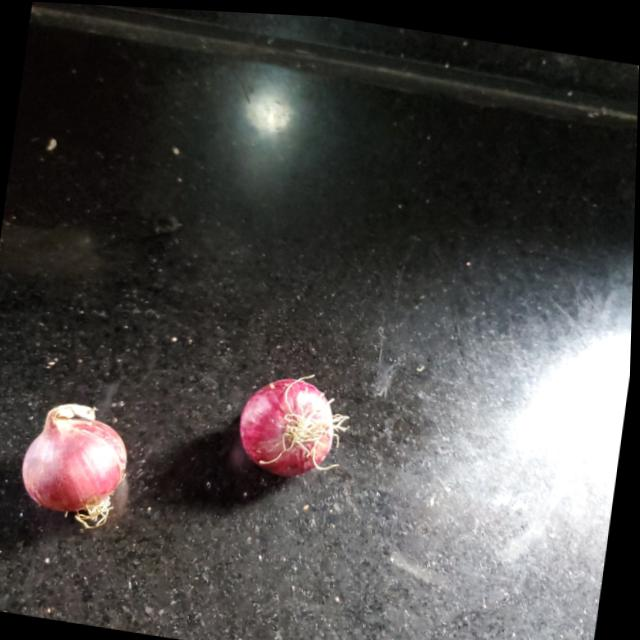onion: (17, 397, 141, 520), (235, 364, 342, 481)
